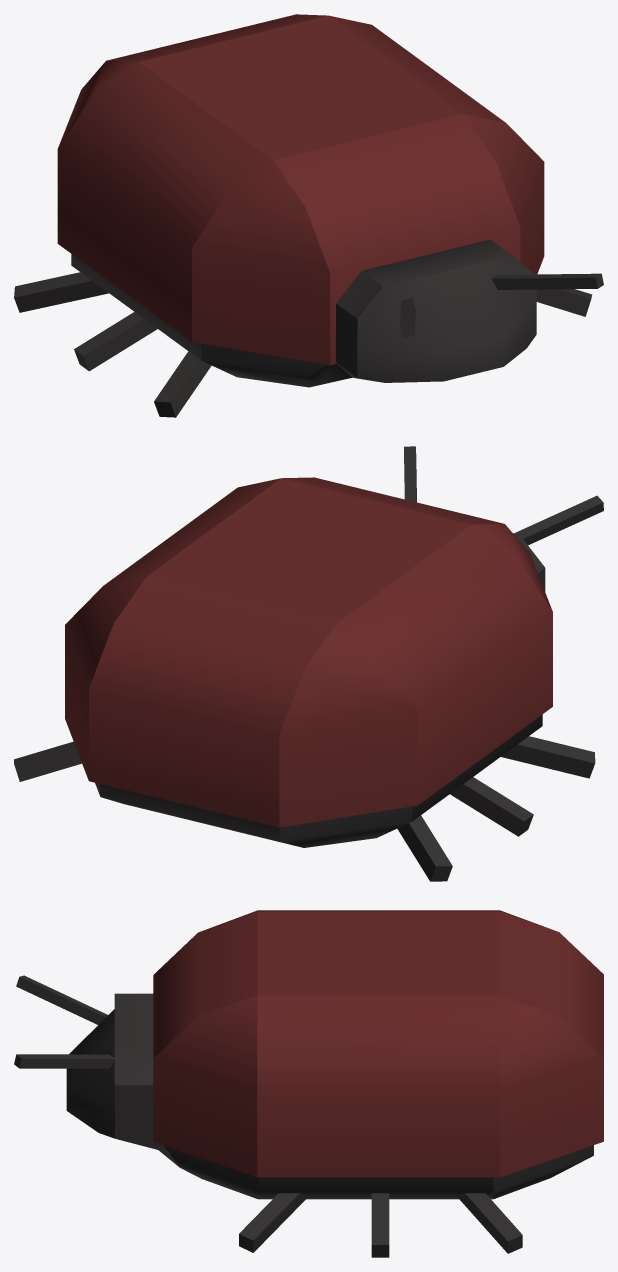
The model's file is ladybug.fbx.
3 renders of one model, top to bottom at view 1: azimuth 30°, elevation 25°; view 2: azimuth 150°, elevation 25°; view 3: azimuth 270°, elevation 25°, orthographic. The views are drawn at different scales.
Parts seen in each view (by area): view 1: button1, pCube17; view 2: button1, pCube17; view 3: button1, pCube17.
Part boxes in pixels (<box>): button1: <box>57,14,544,365</box>; pCube17: <box>14,239,603,417</box>; button1: <box>65,477,552,827</box>; pCube17: <box>14,446,603,881</box>; button1: <box>153,910,603,1177</box>; pCube17: <box>14,975,593,1257</box>.
Bounding box in the file's own units: 14.04 × 6.83 × 17.72.
